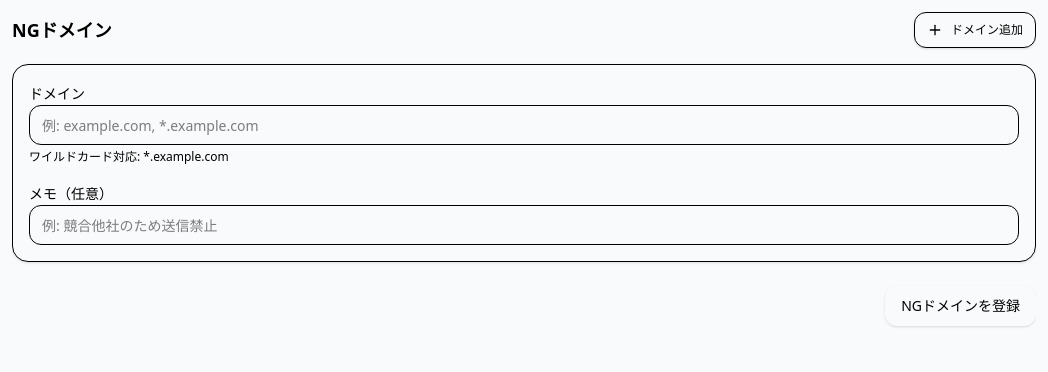
NgListDomainForm › バリデーション › ドメインが空の場合エラーが表示される
Click the button "NGドメインを登録" at (961, 306), box [885,286,1036,326]
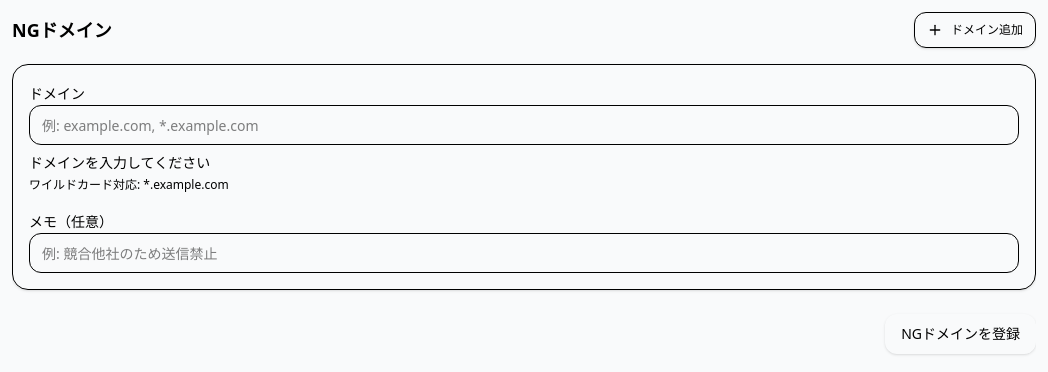
Check: the text "ドメインを入力してください" is shown, box [29,153,210,172]
